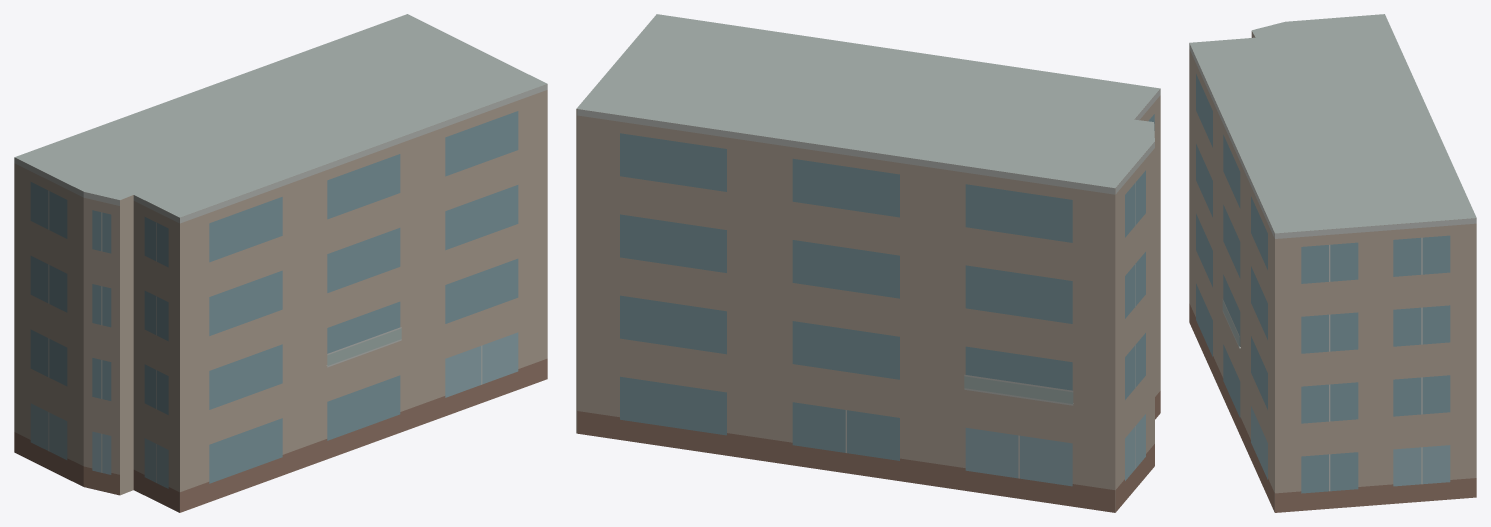
The model's file is survey-upis-33003528.glb.
3 renders of one model, left to right at view 1: azimuth 30°, elevation 25°; view 2: azimuth 150°, elevation 25°; view 3: azimuth 270°, elevation 25°, orthographic. The views are drawn at different scales.
Parts seen in each view (by area): view 1: survey-upis-33003528.tmp; view 2: survey-upis-33003528.tmp; view 3: survey-upis-33003528.tmp.
Part boxes in pixels (x1=…): survey-upis-33003528.tmp: x1=14, y1=14, x2=547, y2=512; survey-upis-33003528.tmp: x1=576, y1=14, x2=1160, y2=512; survey-upis-33003528.tmp: x1=1189, y1=14, x2=1476, y2=512.
Bounding box in the file's own units: 20.56 × 12.2 × 11.38.
